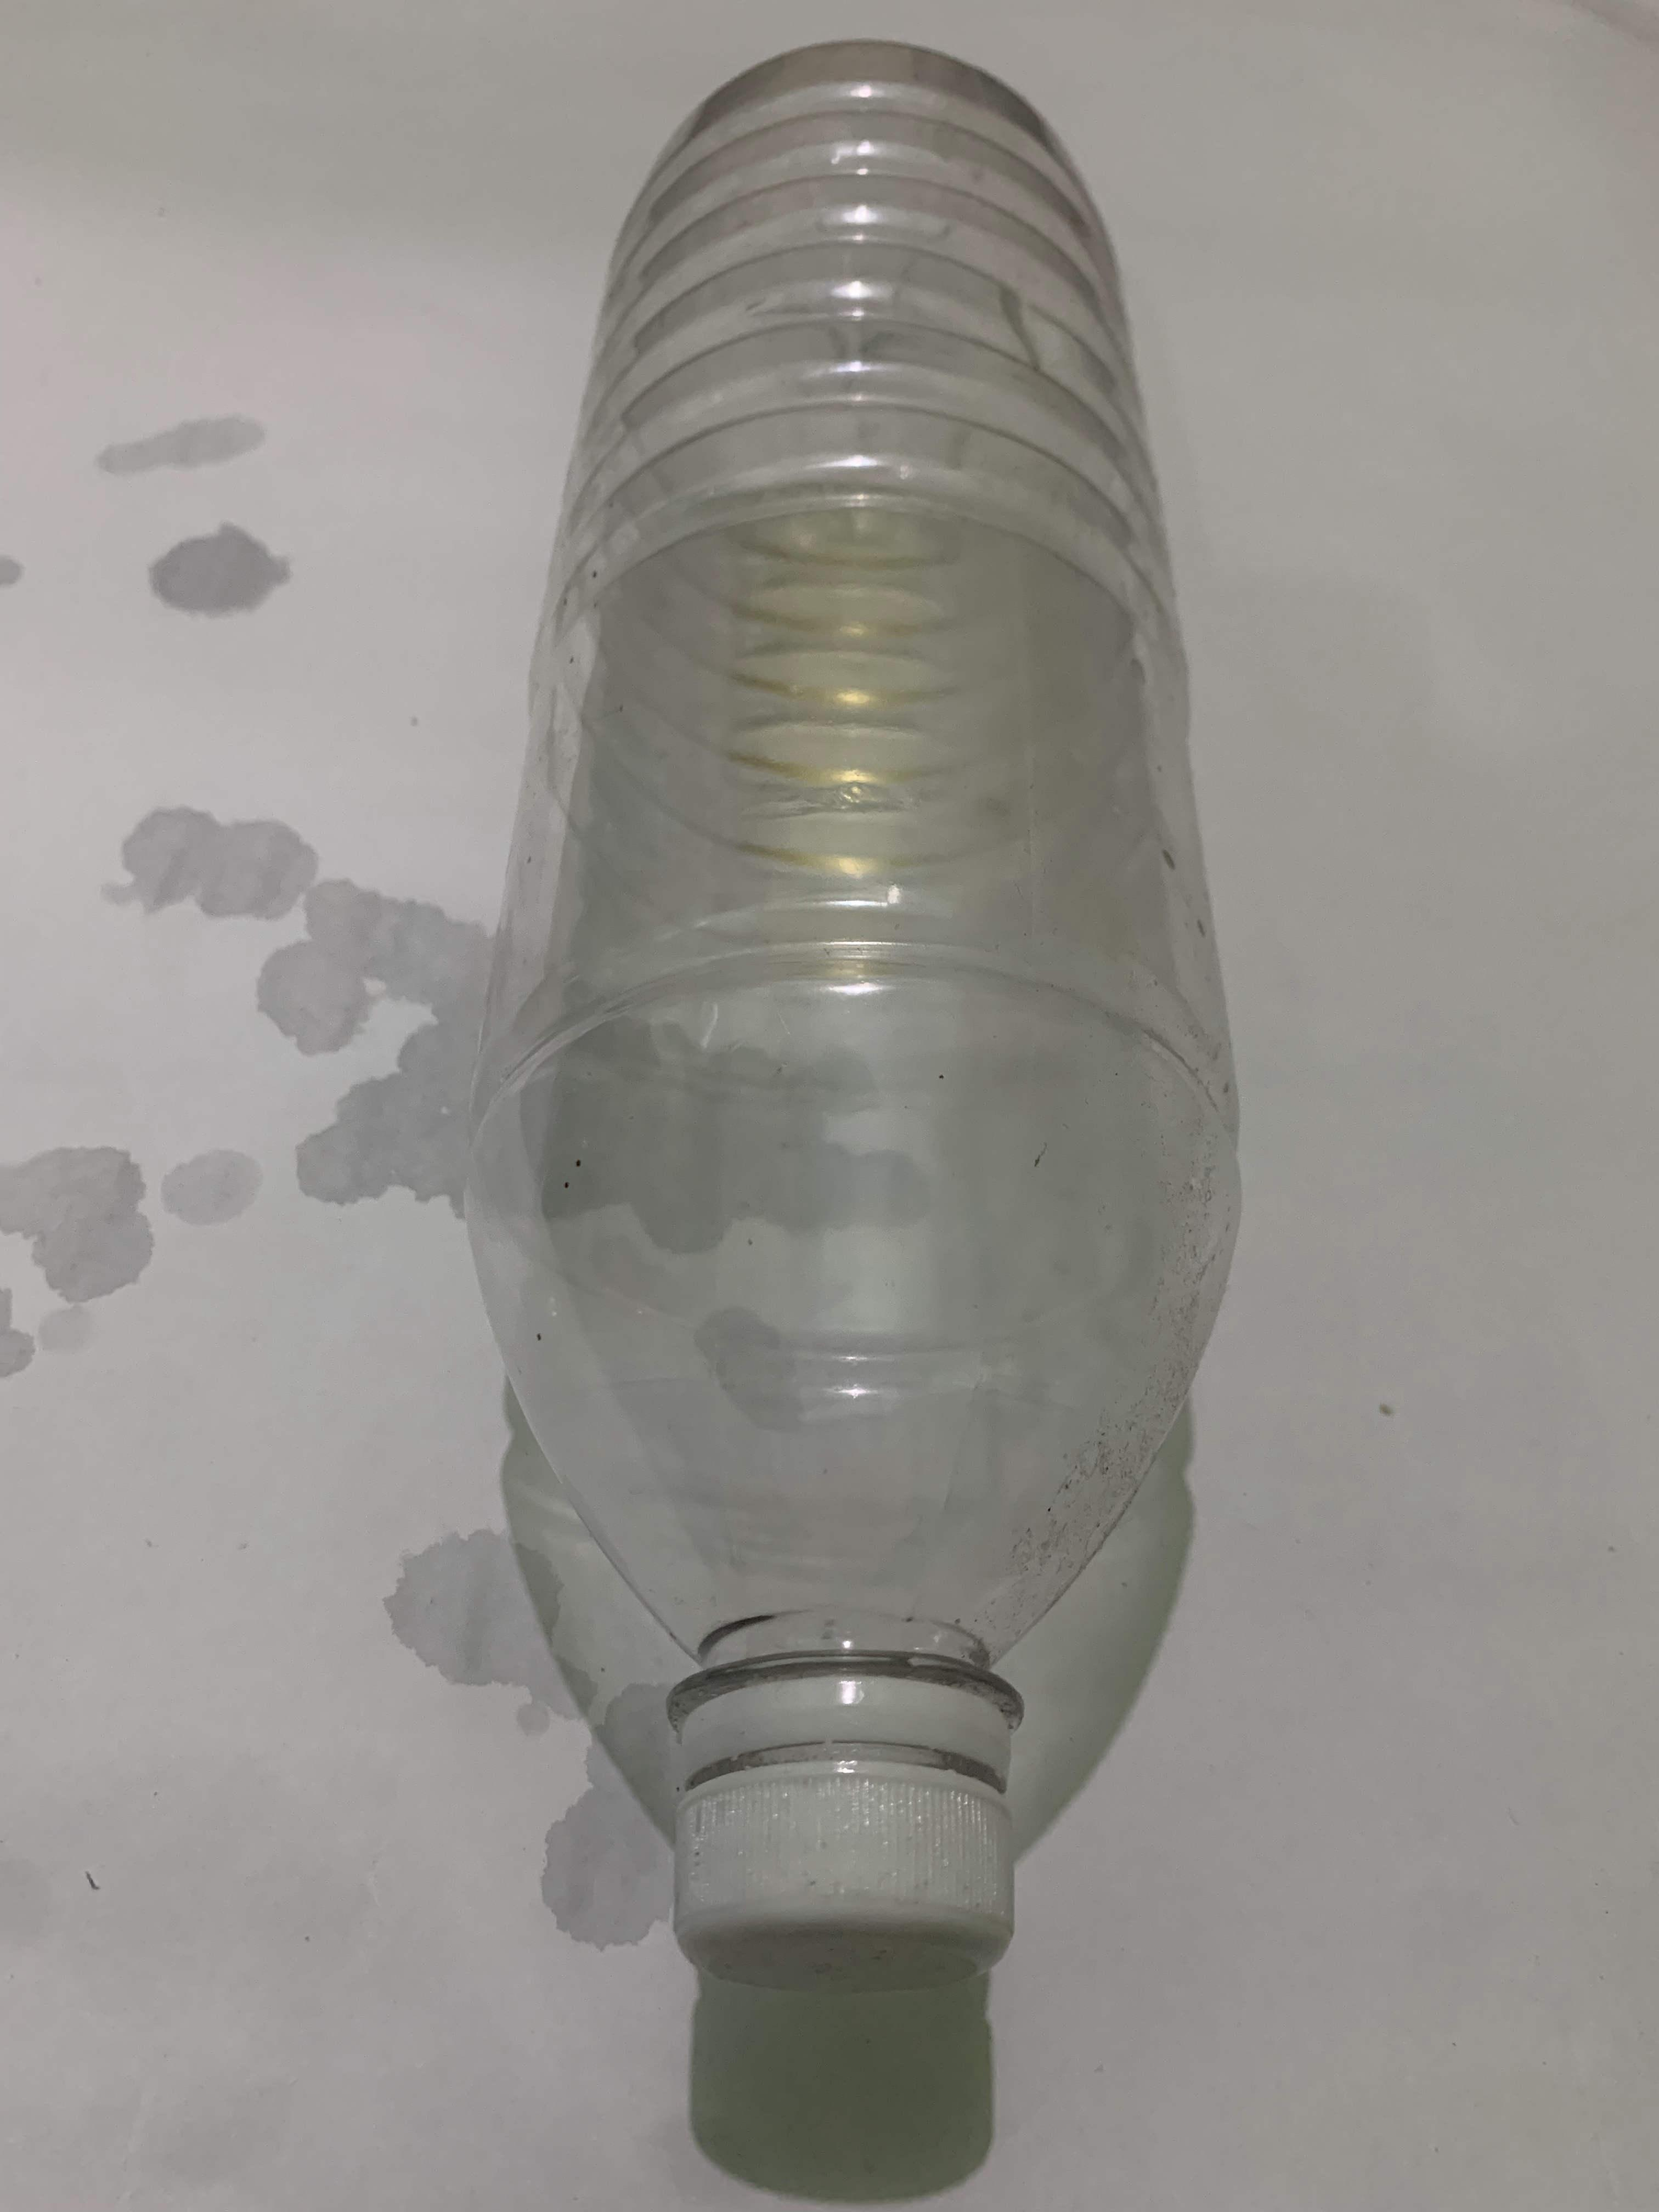bottle: (0, 0, 420, 1864)
